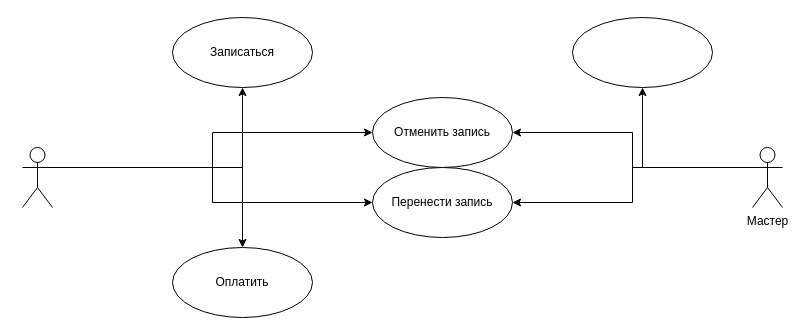
Image size: 806x335. Some labels were removed from this diagram. The centre of each missing label's shape, as x and y in pixels:
Записать клиента: pixel 642 52
Клиент: pixel 37 177
